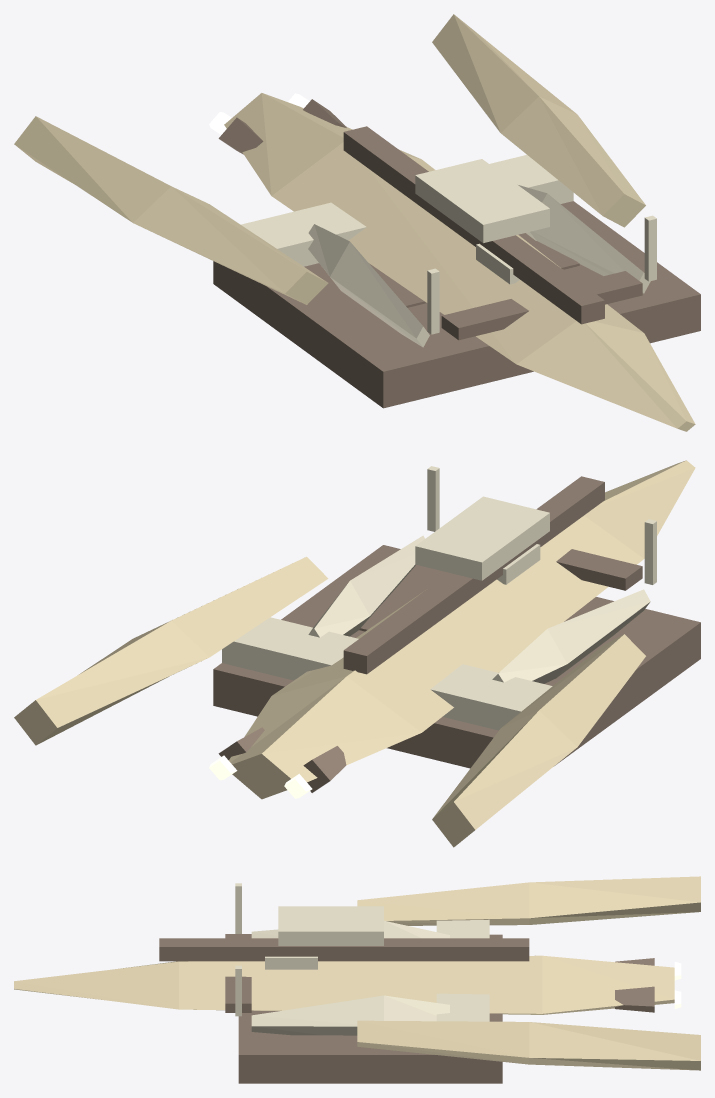
3 views of the same model, one above another, from view 1: azimuth 30°, elevation 25°; view 2: azimuth 150°, elevation 25°; view 3: azimuth 270°, elevation 25° (orthographic). The views are drawn at different scales.
Bounding box in the file's own units: 6.46 × 1.8 × 10.71.
